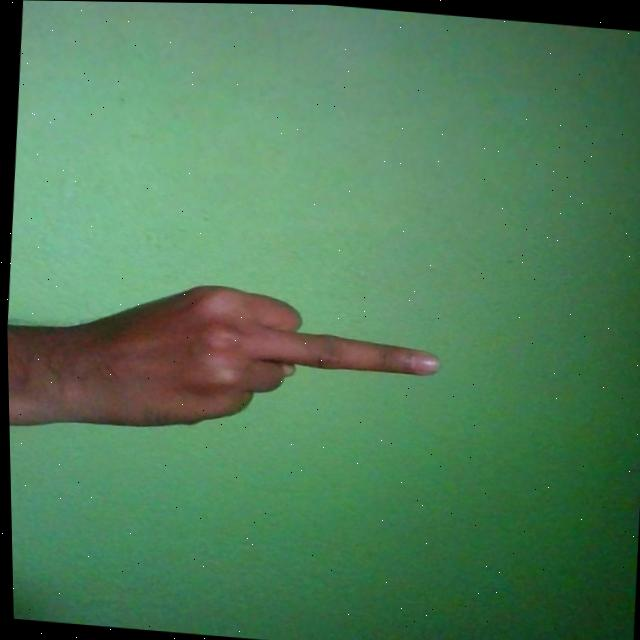Middle Finger: (20, 270, 444, 451)
